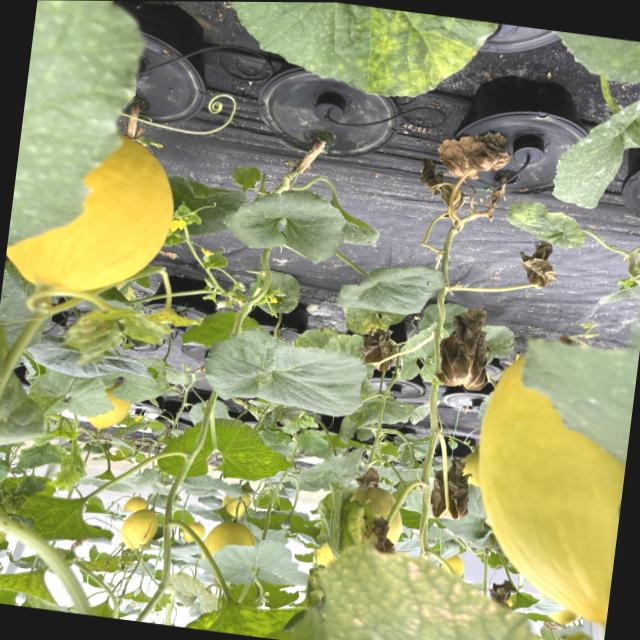CMV: (166, 415, 302, 497), (21, 487, 122, 554), (170, 594, 297, 640), (0, 565, 69, 612)
bacterial wilt: (435, 324, 494, 398), (438, 137, 513, 192), (508, 246, 570, 300)
downy mildew: (206, 2, 509, 112), (16, 365, 135, 428)
healthy: (200, 323, 372, 416), (228, 181, 382, 268), (335, 255, 448, 319), (206, 532, 314, 594)
powdery mildew: (558, 97, 640, 227)
